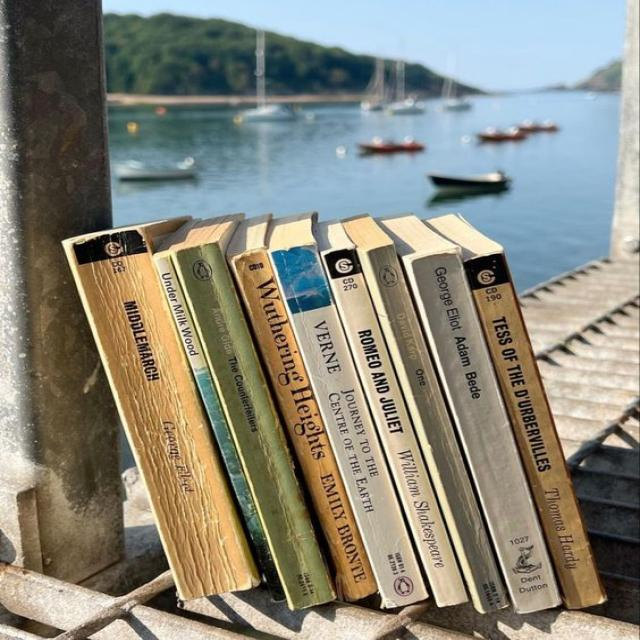book: (65, 228, 259, 599), (176, 242, 337, 610), (271, 243, 429, 606), (406, 250, 558, 613), (363, 242, 510, 614), (321, 249, 469, 607), (234, 249, 380, 600), (464, 253, 605, 610), (153, 250, 259, 528)
